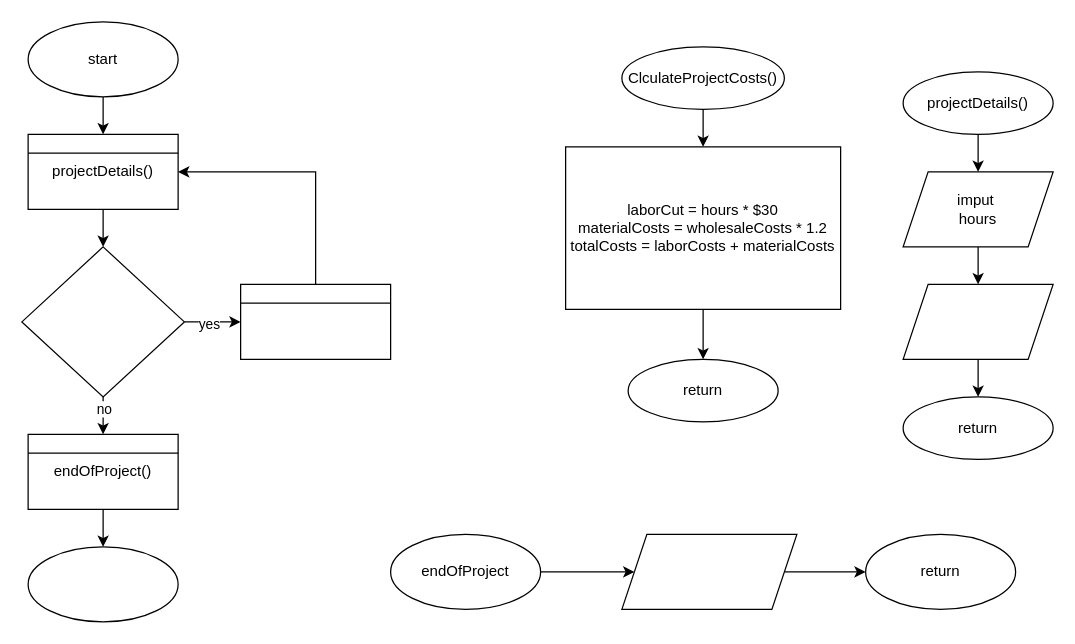
Some shapes in this 1075 by 644 pixel diagram are drawn without their labels. Each missing label, with the centre of its shape:
calculateProjectCost(): pixel 315 321
end: pixel 102 584
imput wholesaleCosts: pixel 977 321
print "Total cost is " + totalCosts: pixel 709 571
projectedHours > 0: pixel 102 321
